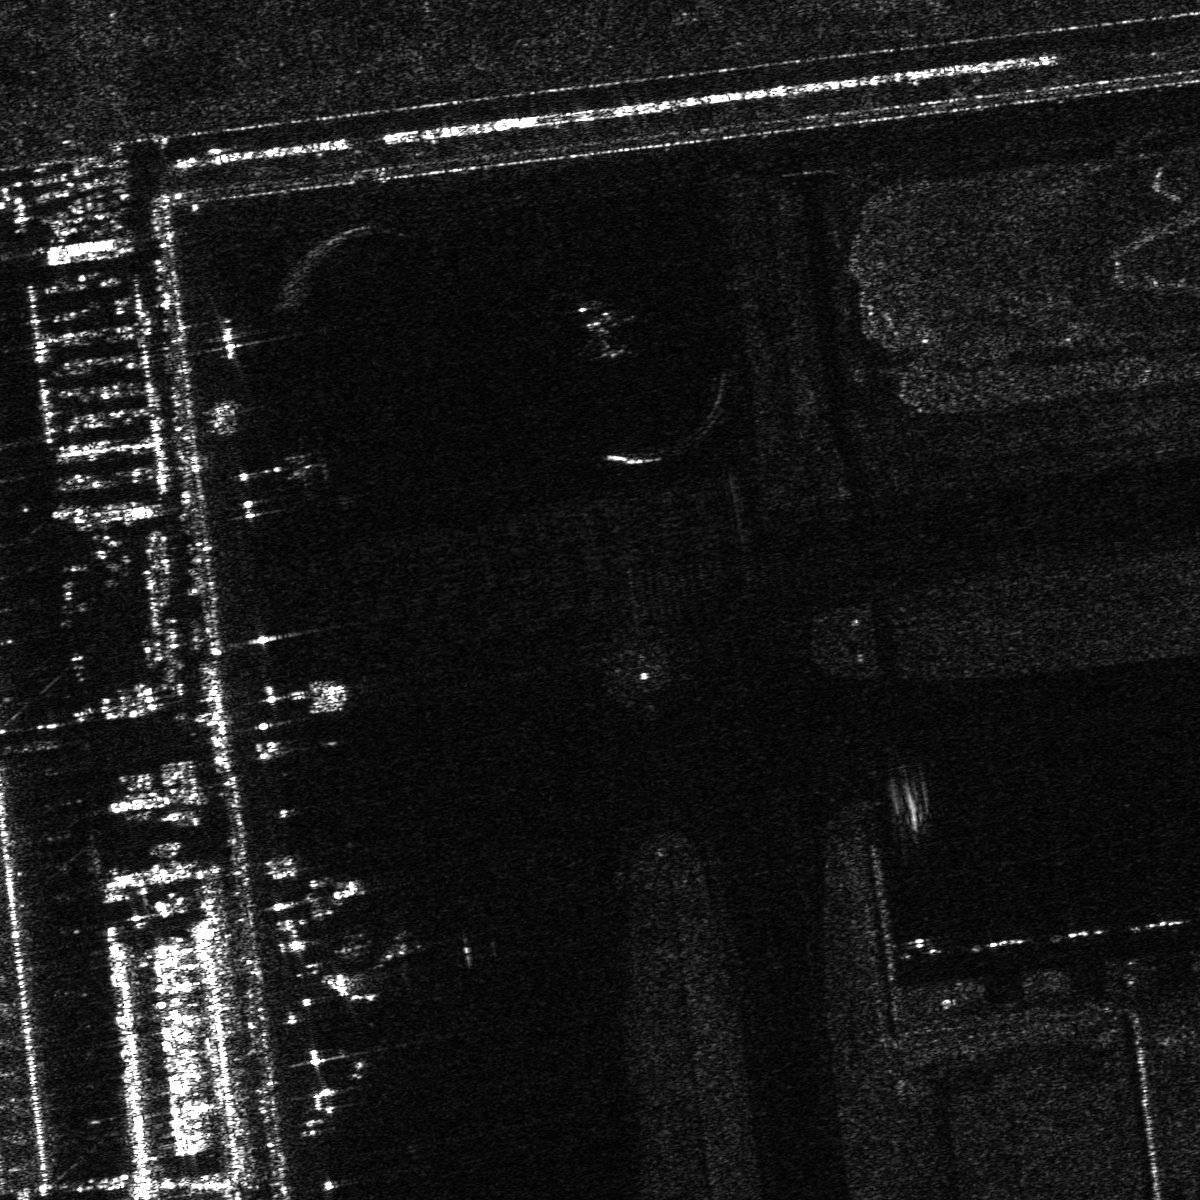A220: (568, 303, 637, 362)
